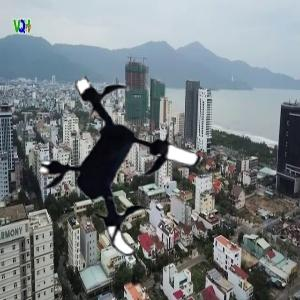drone: (30, 73, 218, 261)
